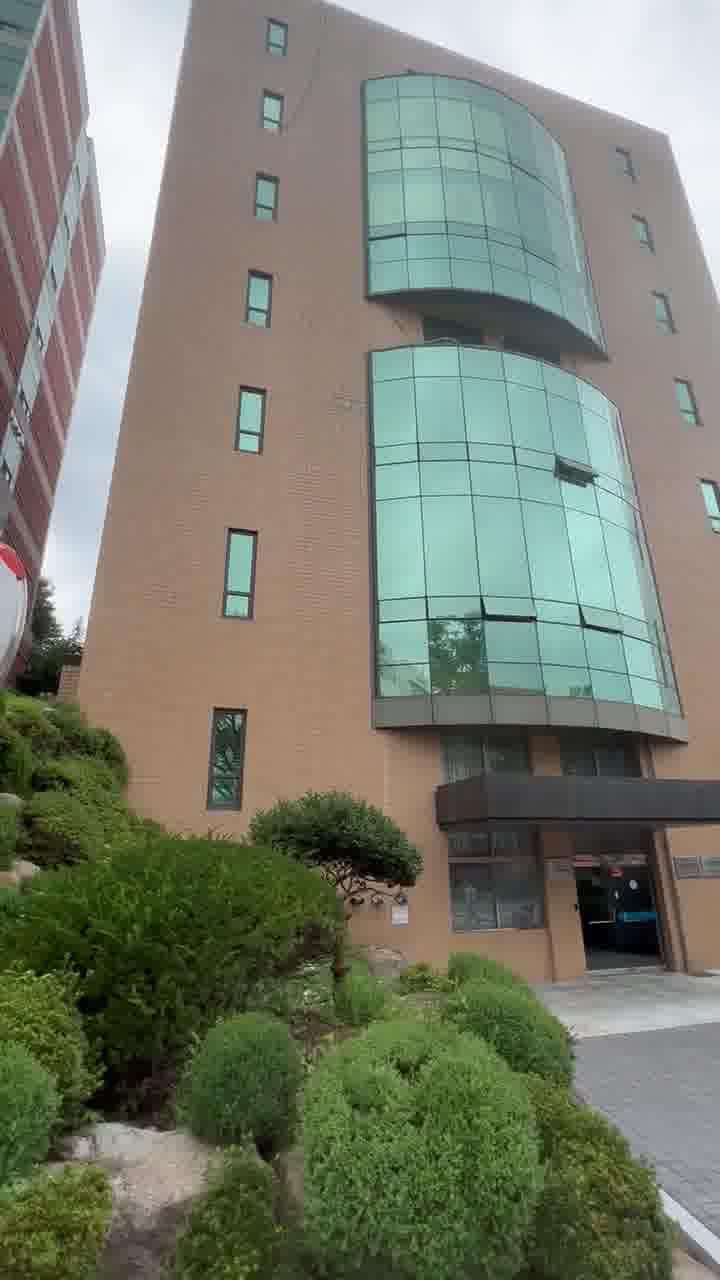building: (128, 48, 720, 802)
